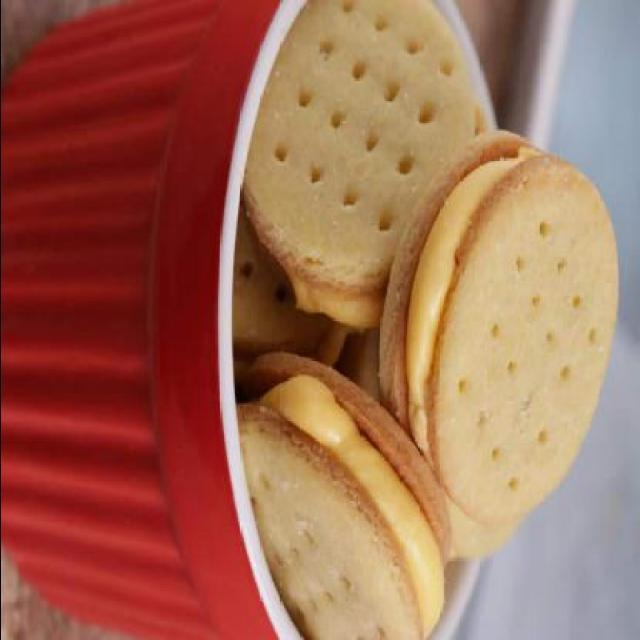Ritz cracker packaged: (229, 7, 622, 638)
